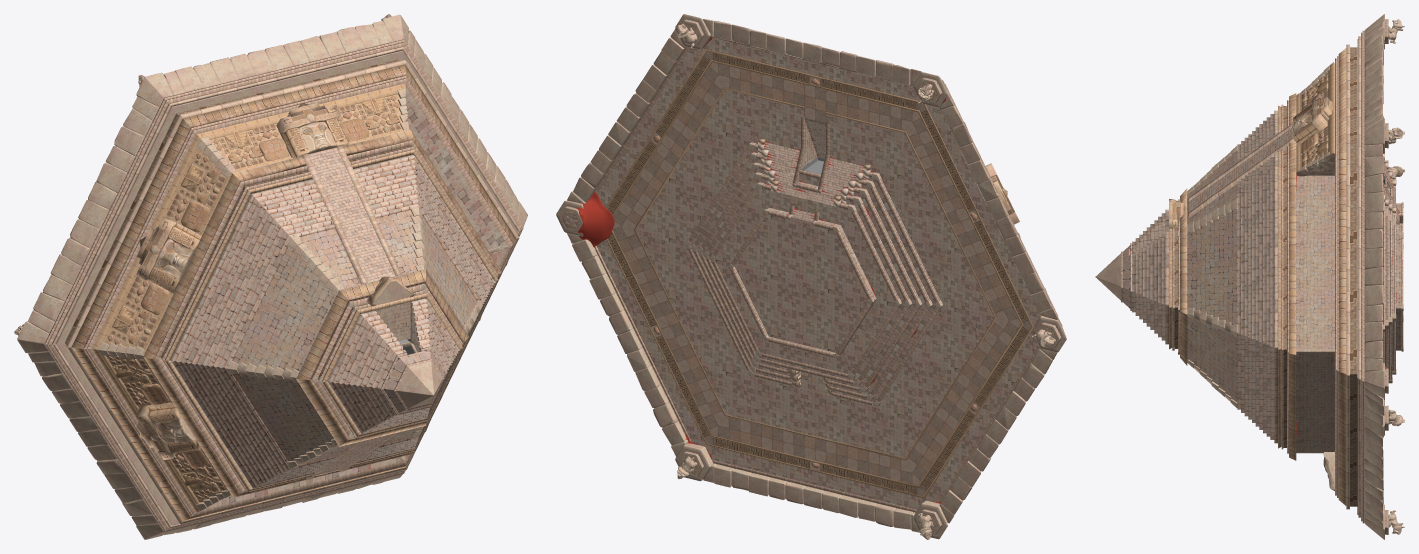
3 renders of one model, left to right at view 1: azimuth 30°, elevation 25°; view 2: azimuth 150°, elevation 25°; view 3: azimuth 270°, elevation 25°, orthographic. The views are drawn at different scales.
Parts seen in each view (by area): view 1: Pyramid00__EdgeStoneBlock02, Pyramid00__StairStoneBase01, Pyramid00__BlockStoneBase02, Pyramid00__WallBrickBase04, Pyramid00__ReliefStonePattern07, Pyramid00__ReliefStonePattern09, Pyramid00__FloorStoneBase02, Pyramid00__StoneBrick00, Pyramid00__EdgeStoneBlock03, Pyramid00__ReliefStonePattern01; view 2: Pyramid00__FloorStoneBase02, Pyramid00__BlockStoneBase02, Pyramid00__FloorStoneBase01, Pyramid00__EdgeStoneBlock02, Pyramid00__ReliefStonePattern01, Pyramid00__ReliefStonePattern07, Pyramid00__StairStoneBase01, Pyramid00__WallBrickBase04, Pyramid00__GroundSandRed00_rep, Pyramid00__StoneGateBlock00, Pyramid00__ReliefStoneCross01; view 3: Pyramid00__WallBrickBase04, Pyramid00__EdgeStoneBlock02, Pyramid00__StairStoneBase01, Pyramid00__BlockStoneBase02, Pyramid00__ReliefStonePattern01, Pyramid00__ReliefStonePattern07, Pyramid00__ReliefStonePattern09, Pyramid00__EdgeStoneBlock03, Pyramid00__ReliefStonePattern08.
Part boxes in pixels (x1=…): Pyramid00__EdgeStoneBlock02: x1=44, y1=39, x2=523, y2=531; Pyramid00__StairStoneBase01: x1=170, y1=147, x2=495, y2=488; Pyramid00__BlockStoneBase02: x1=14, y1=14, x2=527, y2=539; Pyramid00__WallBrickBase04: x1=232, y1=210, x2=476, y2=463; Pyramid00__ReliefStonePattern07: x1=92, y1=83, x2=409, y2=512; Pyramid00__ReliefStonePattern09: x1=136, y1=103, x2=349, y2=459; Pyramid00__FloorStoneBase02: x1=81, y1=78, x2=506, y2=509; Pyramid00__StoneBrick00: x1=105, y1=94, x2=402, y2=502; Pyramid00__EdgeStoneBlock03: x1=302, y1=145, x2=401, y2=480; Pyramid00__ReliefStonePattern01: x1=65, y1=59, x2=422, y2=379; Pyramid00__FloorStoneBase02: x1=596, y1=38, x2=1040, y2=509; Pyramid00__BlockStoneBase02: x1=556, y1=14, x2=1066, y2=539; Pyramid00__FloorStoneBase01: x1=612, y1=51, x2=1031, y2=496; Pyramid00__EdgeStoneBlock02: x1=594, y1=37, x2=1062, y2=512; Pyramid00__ReliefStonePattern01: x1=607, y1=53, x2=1028, y2=494; Pyramid00__ReliefStonePattern07: x1=605, y1=49, x2=1033, y2=498; Pyramid00__StairStoneBase01: x1=763, y1=118, x2=863, y2=222; Pyramid00__WallBrickBase04: x1=566, y1=19, x2=1061, y2=533; Pyramid00__GroundSandRed00_rep: x1=575, y1=37, x2=1040, y2=503; Pyramid00__StoneGateBlock00: x1=758, y1=138, x2=870, y2=207; Pyramid00__ReliefStoneCross01: x1=562, y1=24, x2=1056, y2=532; Pyramid00__WallBrickBase04: x1=1122, y1=19, x2=1401, y2=534; Pyramid00__EdgeStoneBlock02: x1=1121, y1=30, x2=1403, y2=523; Pyramid00__StairStoneBase01: x1=1132, y1=110, x2=1399, y2=443; Pyramid00__BlockStoneBase02: x1=1095, y1=14, x2=1404, y2=539; Pyramid00__ReliefStonePattern01: x1=1174, y1=47, x2=1357, y2=506; Pyramid00__ReliefStonePattern07: x1=1296, y1=62, x2=1334, y2=172; Pyramid00__ReliefStonePattern09: x1=1292, y1=93, x2=1334, y2=145; Pyramid00__EdgeStoneBlock03: x1=1187, y1=122, x2=1401, y2=224; Pyramid00__ReliefStonePattern08: x1=1169, y1=199, x2=1186, y2=228.
Size of the model in its own units: 14297 by 12416 by 8390.
Materials: 18 (16 with a texture image).
